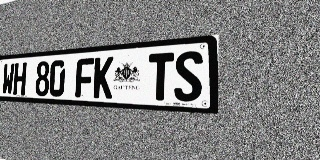0: (49, 60, 66, 97)
8: (35, 61, 50, 96)
F: (75, 58, 94, 98)
H: (13, 62, 27, 95)
K: (93, 56, 114, 99)
S: (174, 50, 203, 102)
T: (148, 52, 174, 101)
W: (2, 63, 15, 95)
